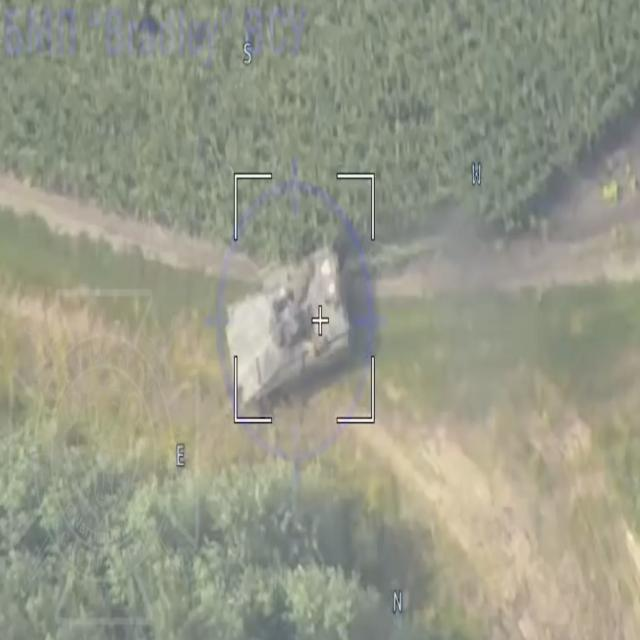vehicle: (225, 246, 351, 404)
